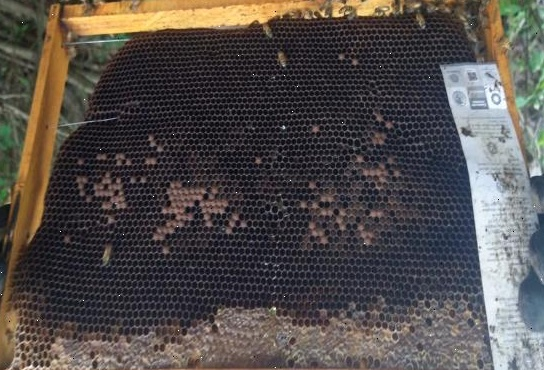cria: (60, 47, 440, 286)
